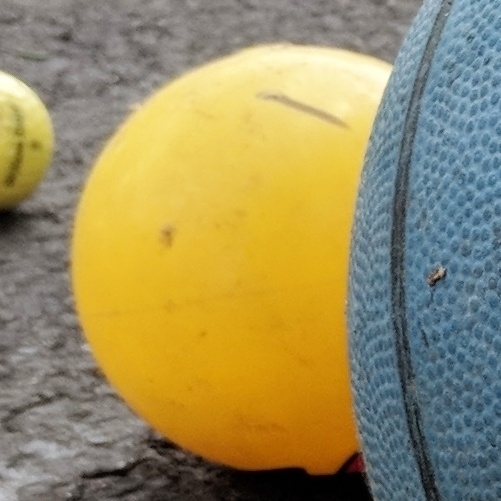ball: (68, 40, 446, 480)
